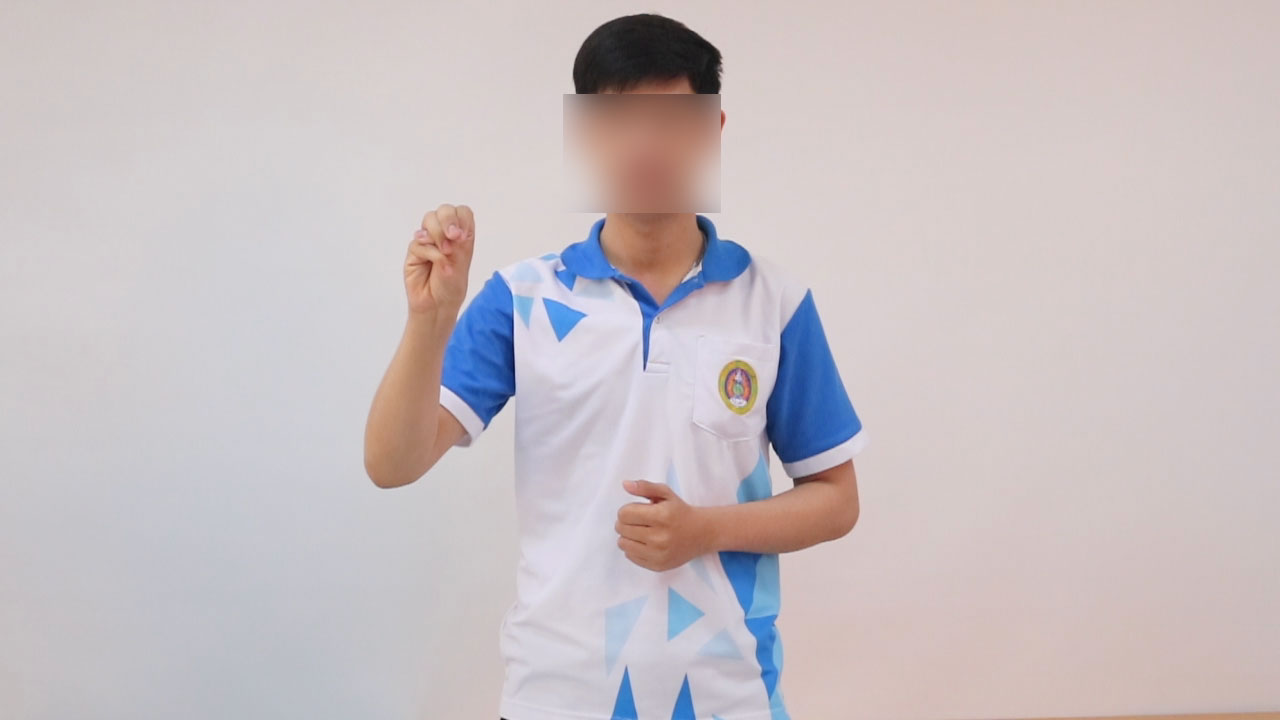mor: (393, 181, 485, 334)
